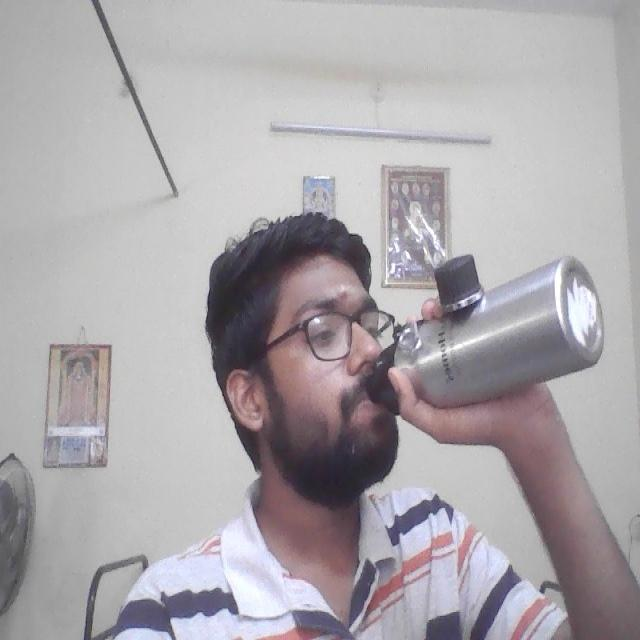Drinking: (391, 247, 607, 401)
